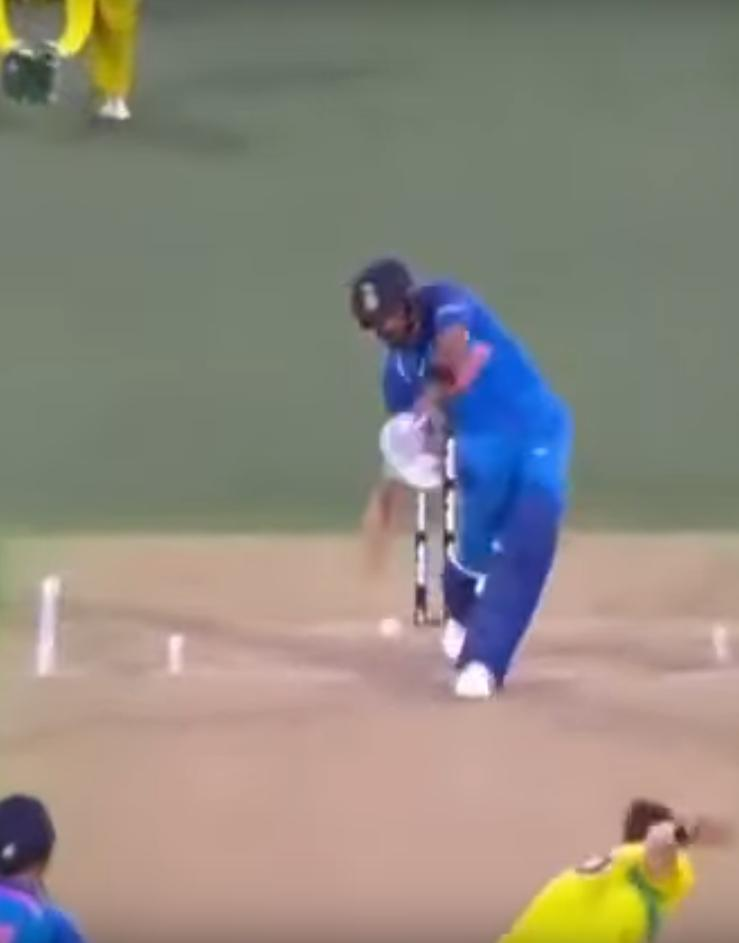Cricket-Ball: (372, 610, 408, 650)
